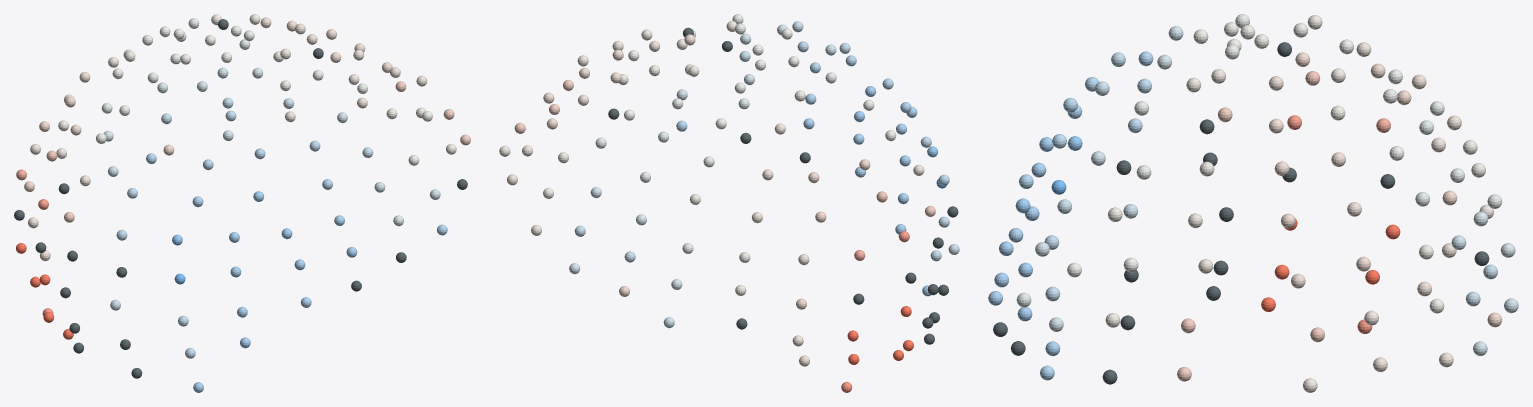
The model's file is scalp-at-cutoff.glb.
3 renders of one model, left to right at view 1: azimuth 30°, elevation 25°; view 2: azimuth 150°, elevation 25°; view 3: azimuth 270°, elevation 25°, orthographic. The views are drawn at different scales.
Size of the model in its own units: 0.193 by 0.1328 by 0.1641.
